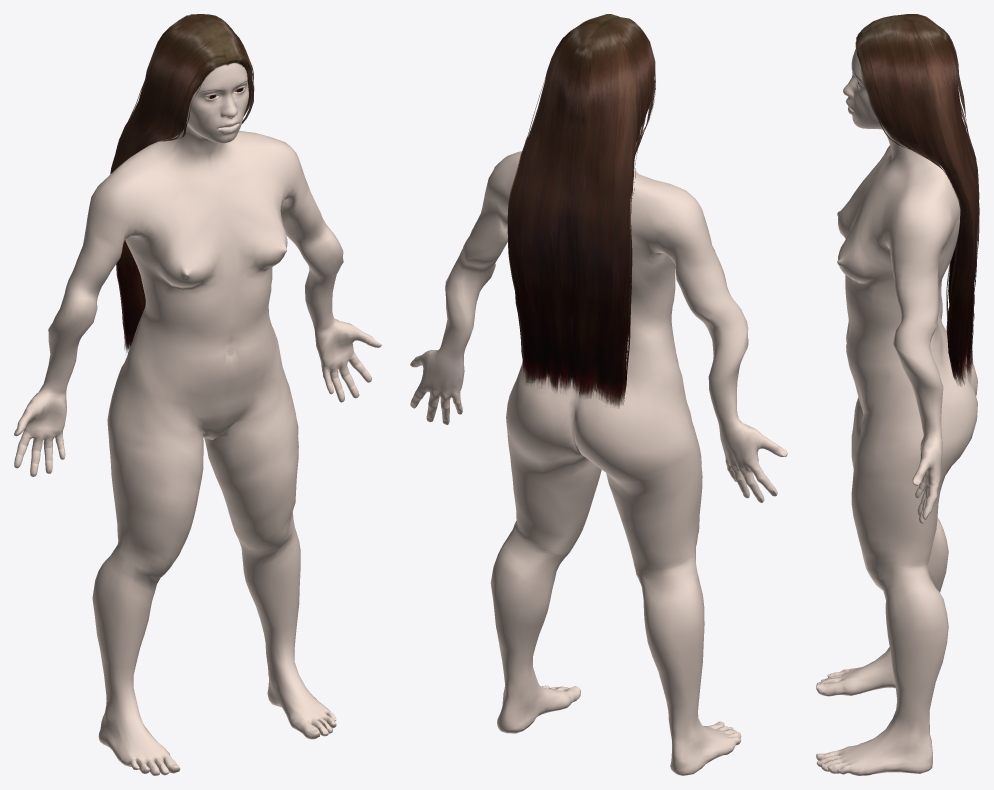
The model's file is cuerpo_manos.glb.
3 views of the same model, side by side, from view 1: azimuth 30°, elevation 25°; view 2: azimuth 150°, elevation 25°; view 3: azimuth 270°, elevation 25° (orthographic). The views are drawn at different scales.
Parts seen in each view (by area): view 1: cuerpo, cabello; view 2: cuerpo, cabello; view 3: cuerpo, cabello.
Part boxes in pixels (x1,y1,x2,y2): cuerpo: [14, 62, 381, 775]; cabello: [110, 14, 254, 352]; cuerpo: [410, 151, 787, 775]; cabello: [507, 14, 655, 407]; cuerpo: [816, 48, 977, 775]; cabello: [855, 14, 979, 386].
Size of the model in its own units: 0.6731 by 1.24 by 0.2587.
Materials: 4 (3 with a texture image).
